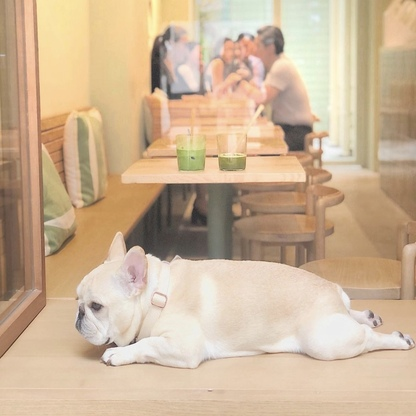bulldog: (71, 228, 416, 372)
